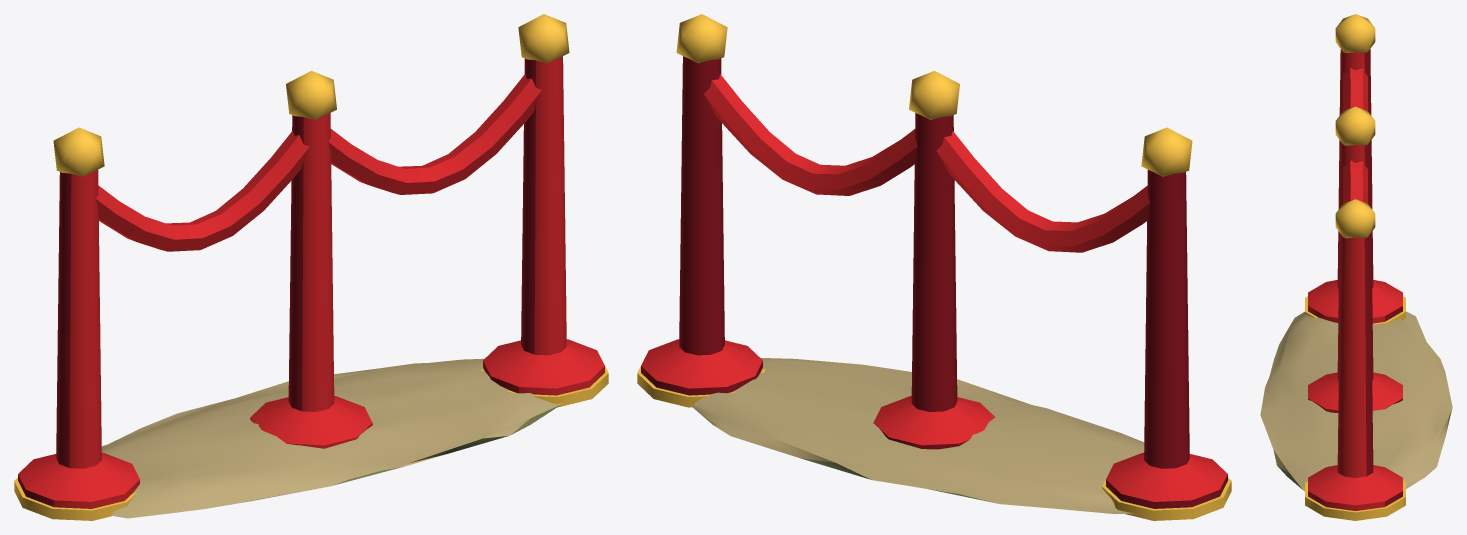
The model's file is RopeBarrier.fbx.
3 views of the same model, side by side, from view 1: azimuth 30°, elevation 25°; view 2: azimuth 150°, elevation 25°; view 3: azimuth 270°, elevation 25° (orthographic). The views are drawn at different scales.
Visible parts, largest first — view 1: RopeBarrier; view 2: RopeBarrier; view 3: RopeBarrier.
Boxes of the visible parts, left/top/right/bottom form: RopeBarrier: left=14, top=14, right=608, bottom=520; RopeBarrier: left=637, top=14, right=1231, bottom=520; RopeBarrier: left=1260, top=14, right=1452, bottom=520.
Bounding box in the file's own units: 1.74 × 1.06 × 0.614.
1 material, 1 textured.
